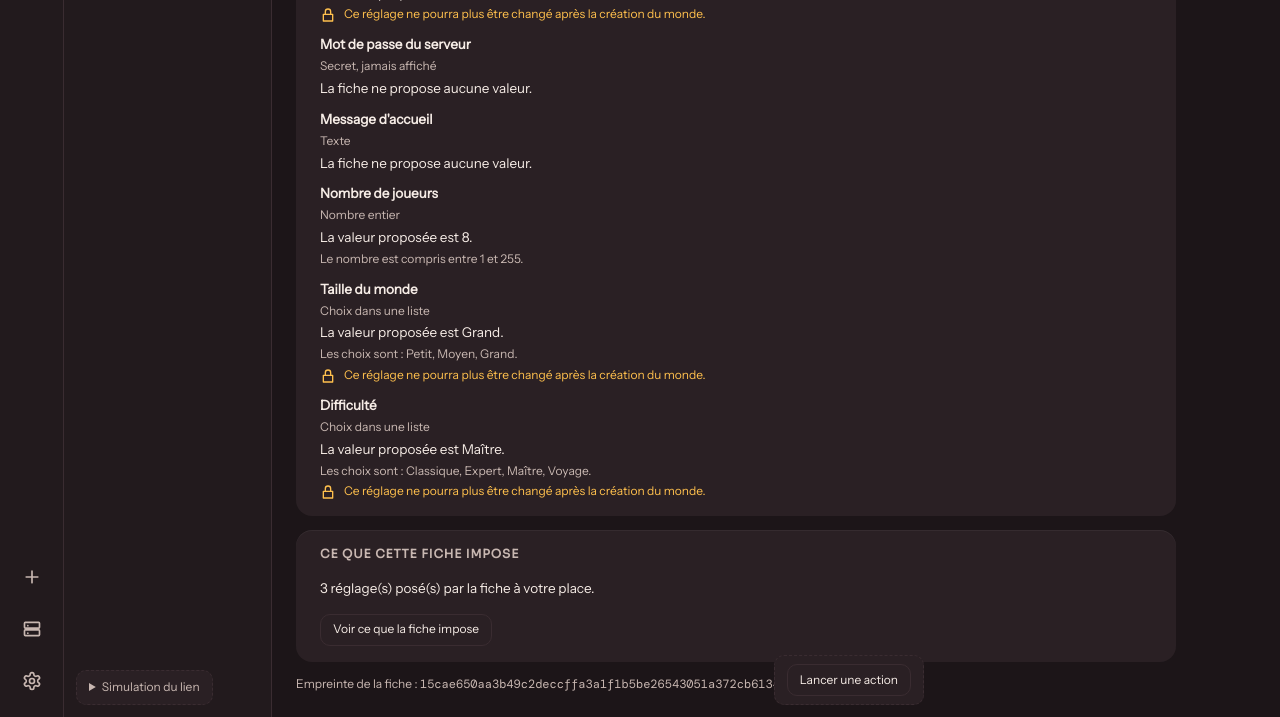
Test: les cartes de la fiche (BR-FICHE-004) › ouvre la liste de ce que la fiche impose, secrets exclus, avec la raison de chaque réglage
This screenshot has width=1280, height=717.
(page scrolled)
Click the button "Voir ce que la fiche impose". click: (406, 630)
box: [320, 614, 492, 646]
Wait 450 ms
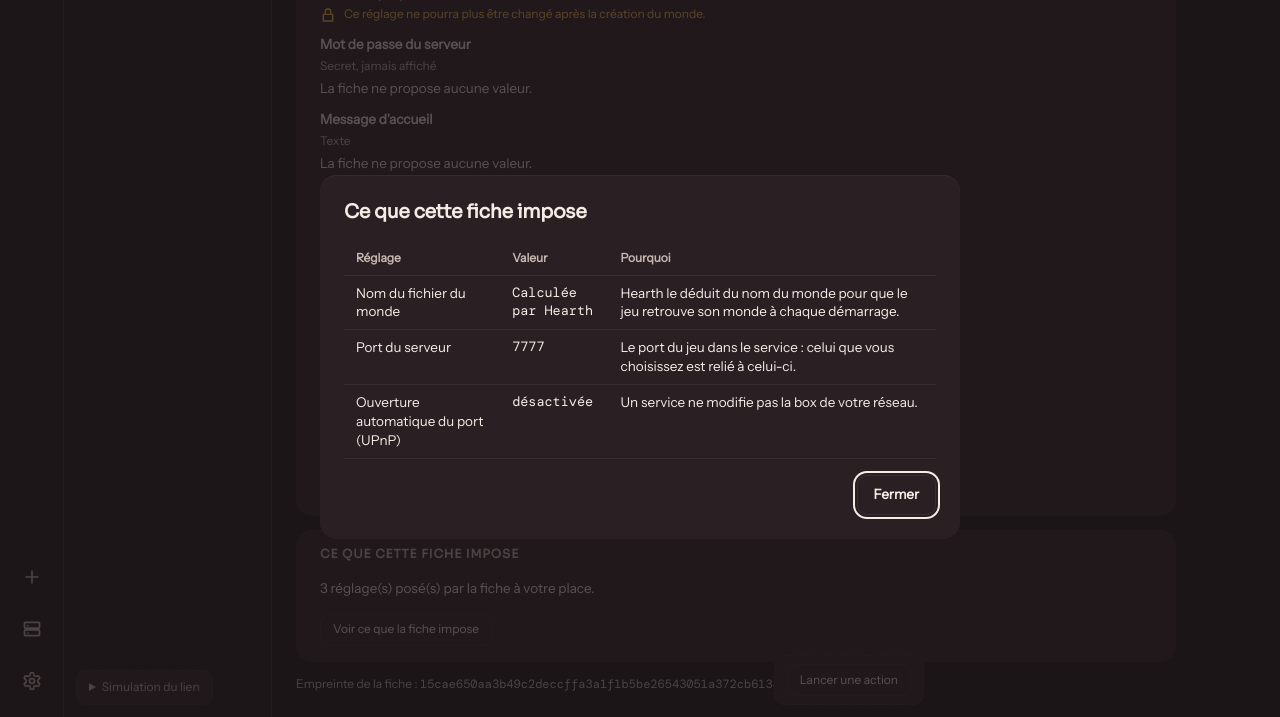
Expected: the dialog shows "Ce que cette fiche impose", [344, 200, 586, 224]
Expected: the row that starts with "Nom du fichier du monde" shows "Calculée par Hearth", [512, 284, 593, 320]
Expected: the row that starts with "Port du serveur" shows "7777", [512, 338, 544, 355]
